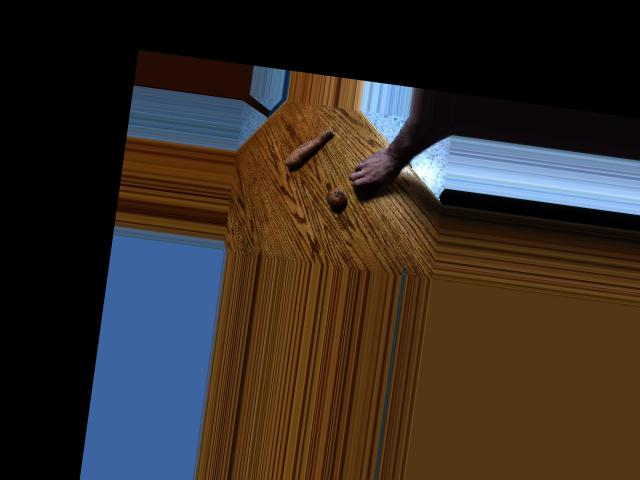onion: (354, 171, 383, 196)
